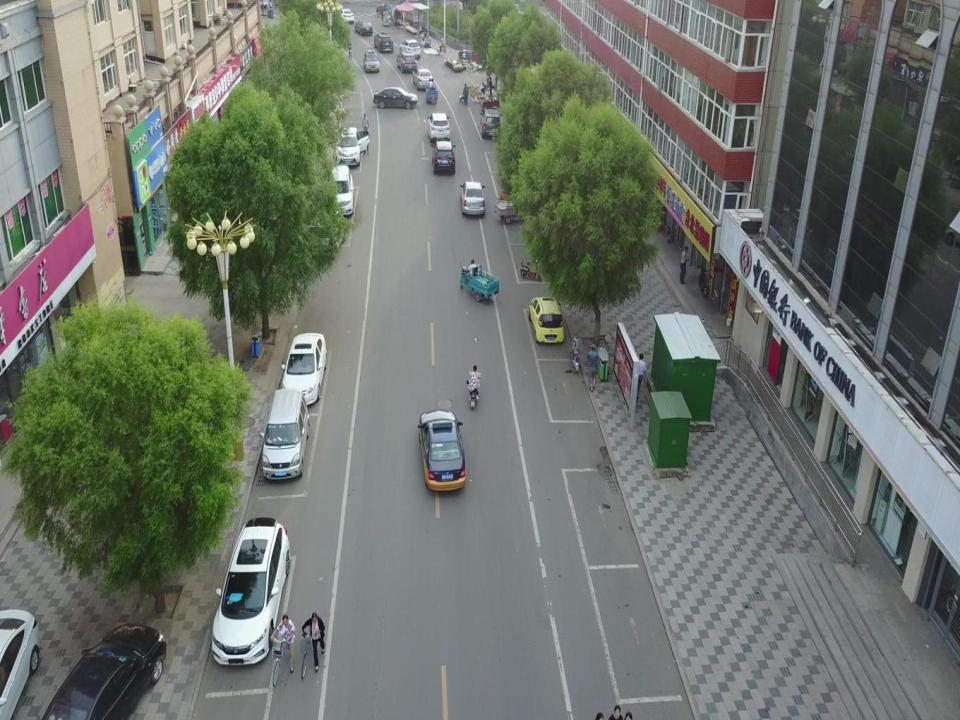car: (36, 622, 166, 719), (209, 516, 289, 667), (418, 410, 467, 492), (280, 332, 326, 408), (527, 296, 565, 344), (326, 165, 354, 214), (335, 126, 369, 166), (372, 87, 418, 109), (460, 180, 487, 216), (430, 139, 457, 175), (479, 108, 502, 140), (426, 112, 451, 139), (412, 68, 434, 90), (397, 51, 418, 72), (399, 38, 421, 58), (374, 31, 394, 53), (363, 49, 380, 72), (354, 19, 373, 36), (338, 8, 354, 24)
van: (259, 389, 310, 480), (306, 209, 346, 257)
